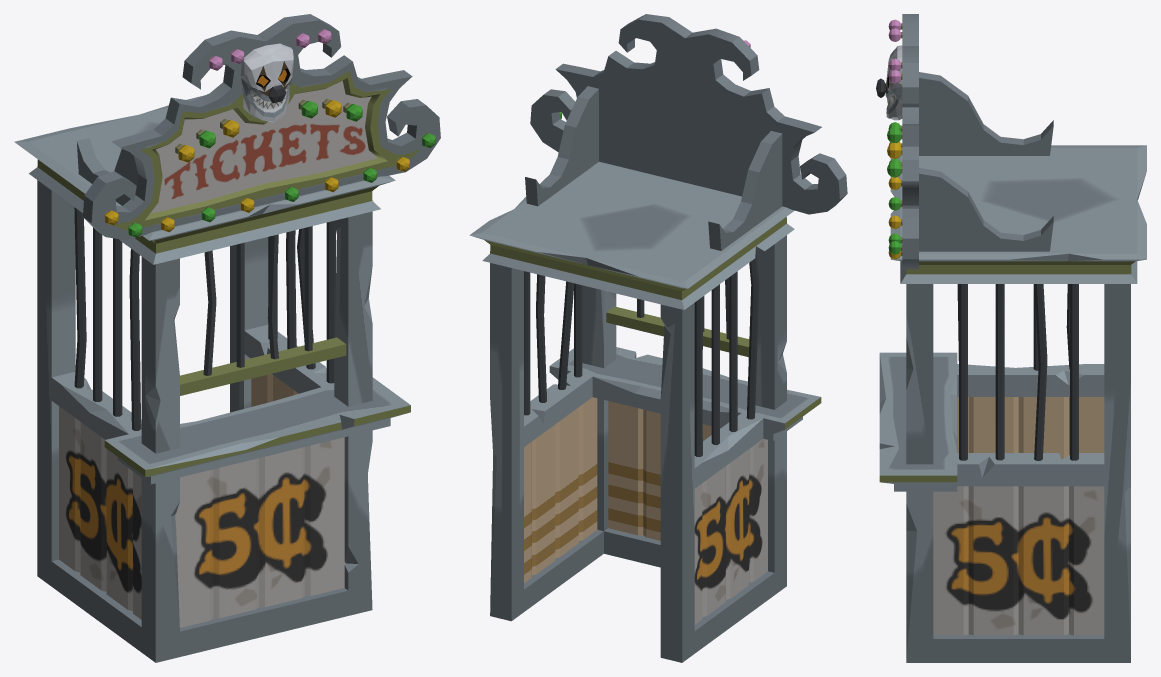
Rendered from SM_Prop_Ticket_Booth_01.fbx.
The picture shows the model from 3 angles, left to right: view 1: azimuth 30°, elevation 25°; view 2: azimuth 150°, elevation 25°; view 3: azimuth 270°, elevation 25°; orthographic projection. The views are drawn at different scales.
Parts seen in each view (by area): view 1: SM_Prop_Ticket_Booth_01; view 2: SM_Prop_Ticket_Booth_01; view 3: SM_Prop_Ticket_Booth_01.
Part boxes in pixels (<box>): SM_Prop_Ticket_Booth_01: <box>14,14,440,662</box>; SM_Prop_Ticket_Booth_01: <box>469,14,847,662</box>; SM_Prop_Ticket_Booth_01: <box>876,14,1146,662</box>.
Bounding box in the file's own units: 177 × 295 × 125.
